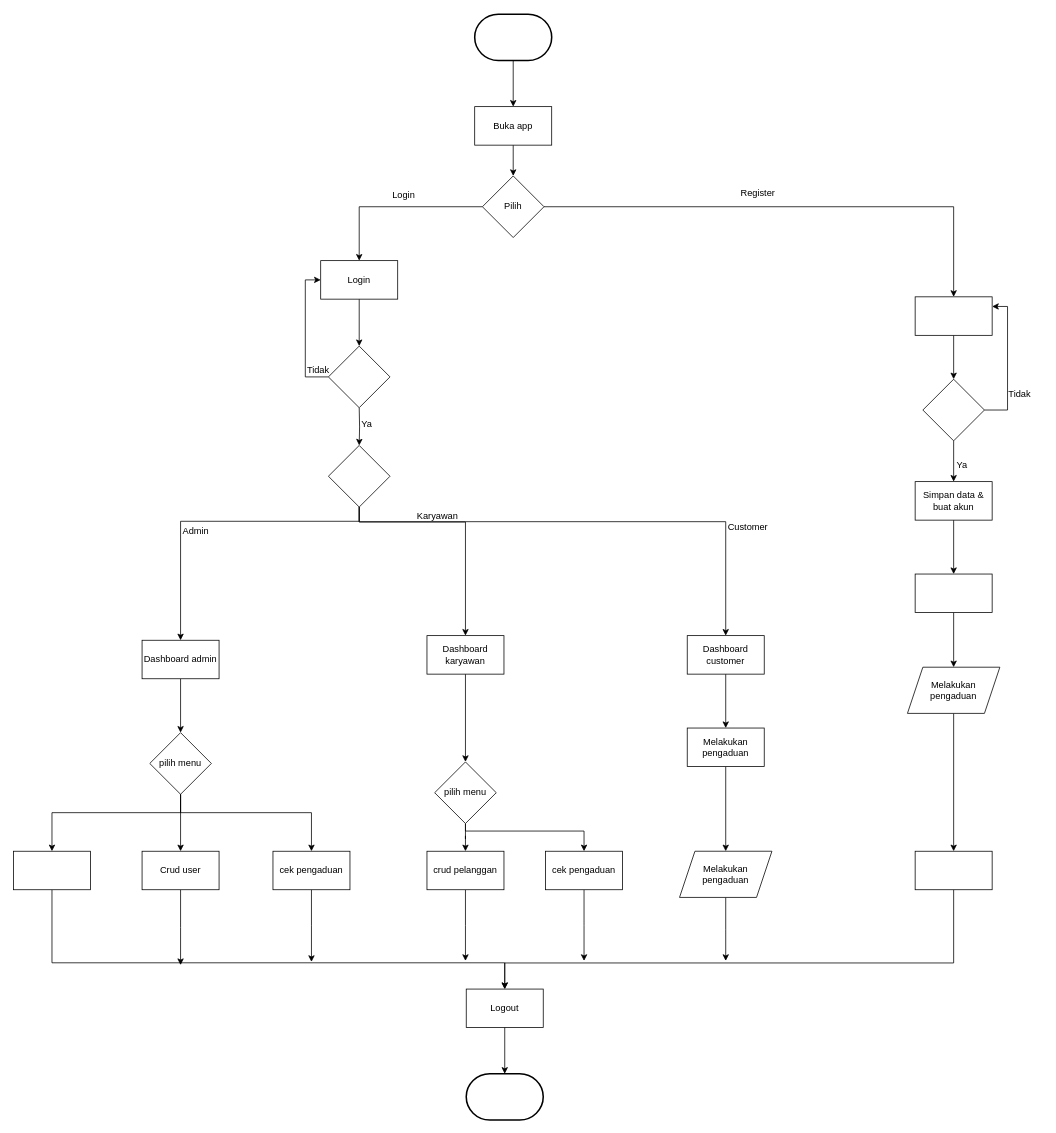
Some shapes in this 1056 by 1133 pixel diagram are drawn without their labels. Here are the shapes that lost their labels. From the top down, the centre of each, then its label:
At point 513,37: "Mulai".
At point 953,315: "Isi form pendaftaran".
At point 359,376: "Login berhasil ?".
At point 953,409: "Data valid ?".
At point 359,476: "Tentukan role user".
At point 953,593: "Login sebagai customer".
At point 51,870: "Crud masterdata".
At point 953,870: "isi pengaduan".
At point 504,1096: "Berakhir".
